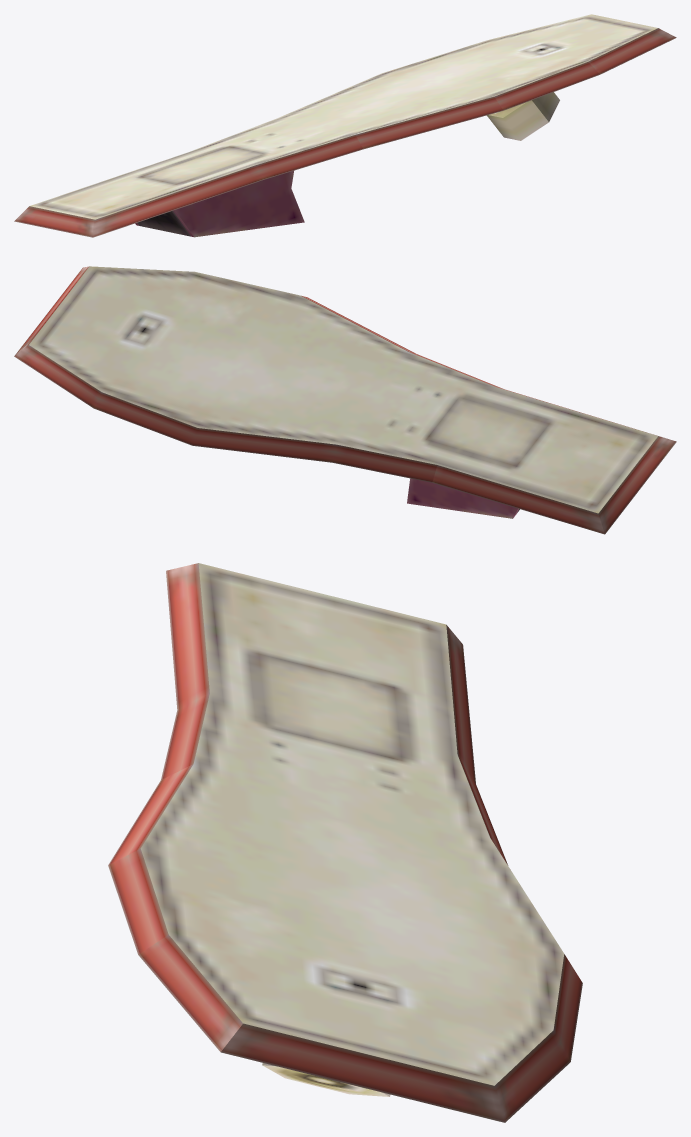
The model's file is eureka_us_def.ico.obj.
3 views of the same model, one above another, from view 1: azimuth 30°, elevation 25°; view 2: azimuth 150°, elevation 25°; view 3: azimuth 270°, elevation 25° (orthographic). The views are drawn at different scales.
Bounding box in the file's own units: 4.8 × 0.9595 × 1.69.
1 material, 1 textured.
